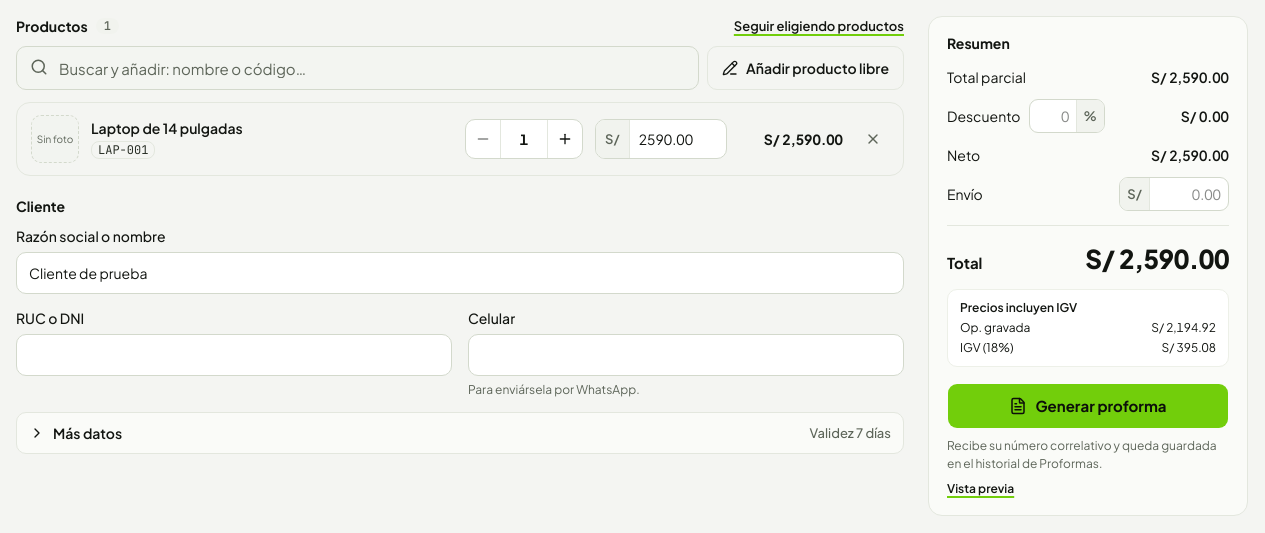
Test: ProformaPanel › un doble clic pide un solo número
What coordinates should you click on to do the following:
click the button "Generar proforma"
I would click on:
 (1088, 406)
Its box is left=947, top=383, right=1229, bottom=429.
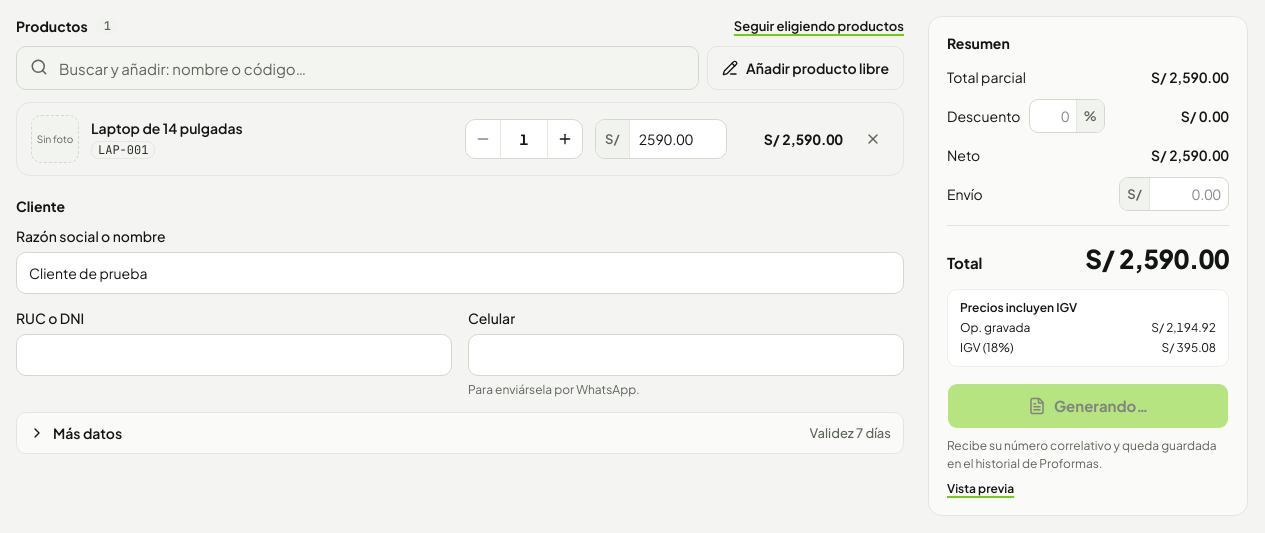
What coordinates should you click on to do the following:
click the button named "Generar proforma"
I would click on:
 (1088, 406)
Its box is left=947, top=383, right=1229, bottom=429.
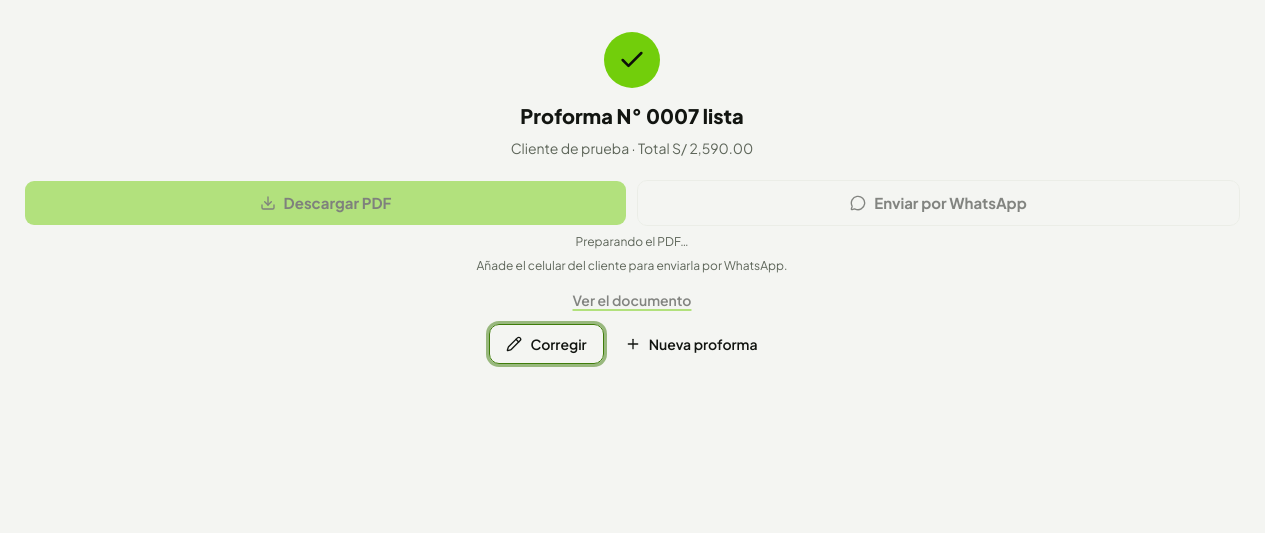
Check: the text "Proforma N° 0007 lista" is shown, box left=520, top=102, right=744, bottom=130
